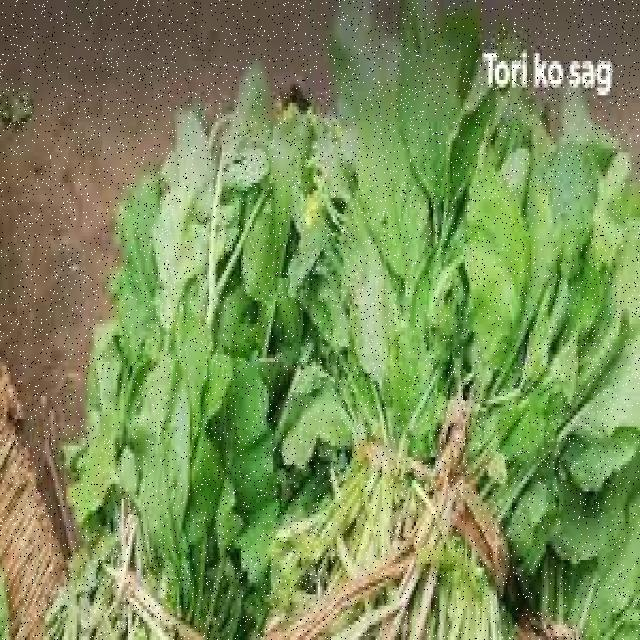NA: (269, 68, 623, 640), (65, 42, 263, 626)
